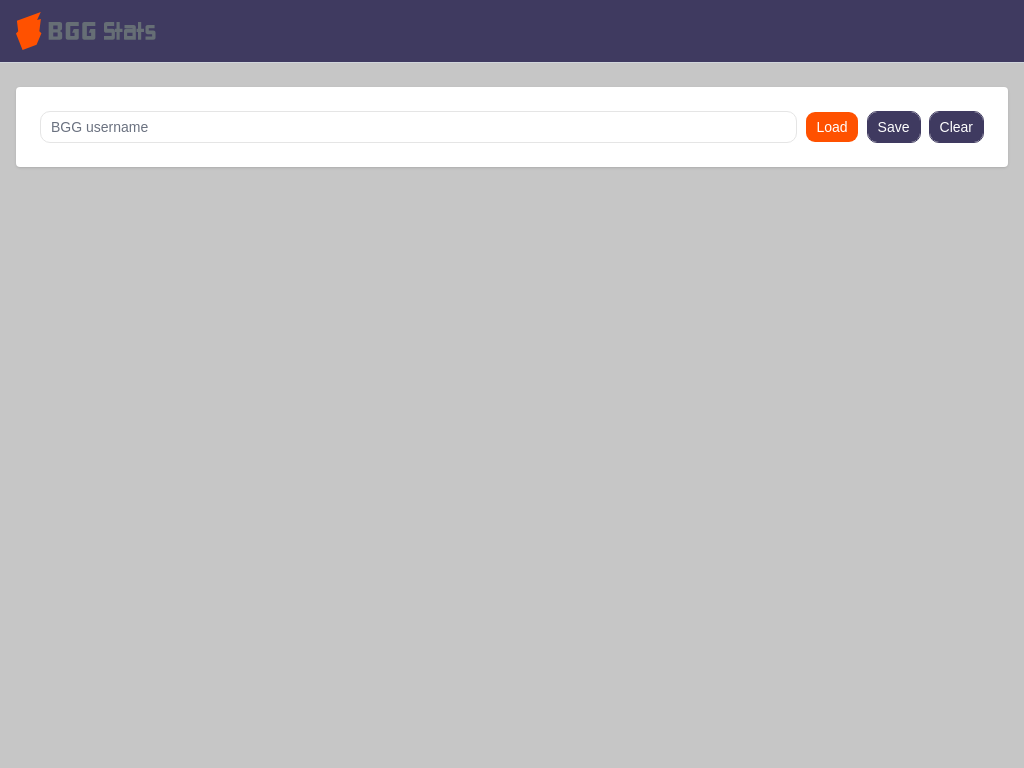
Scenario: CollectionBrowser › item type filter › Given games of both types are loaded, When the user selects 'Standalone', Then only standalone games are visible
The width and height of the screenshot is (1024, 768).
Type "testuser" into the field at [419, 127], box [40, 111, 798, 143]
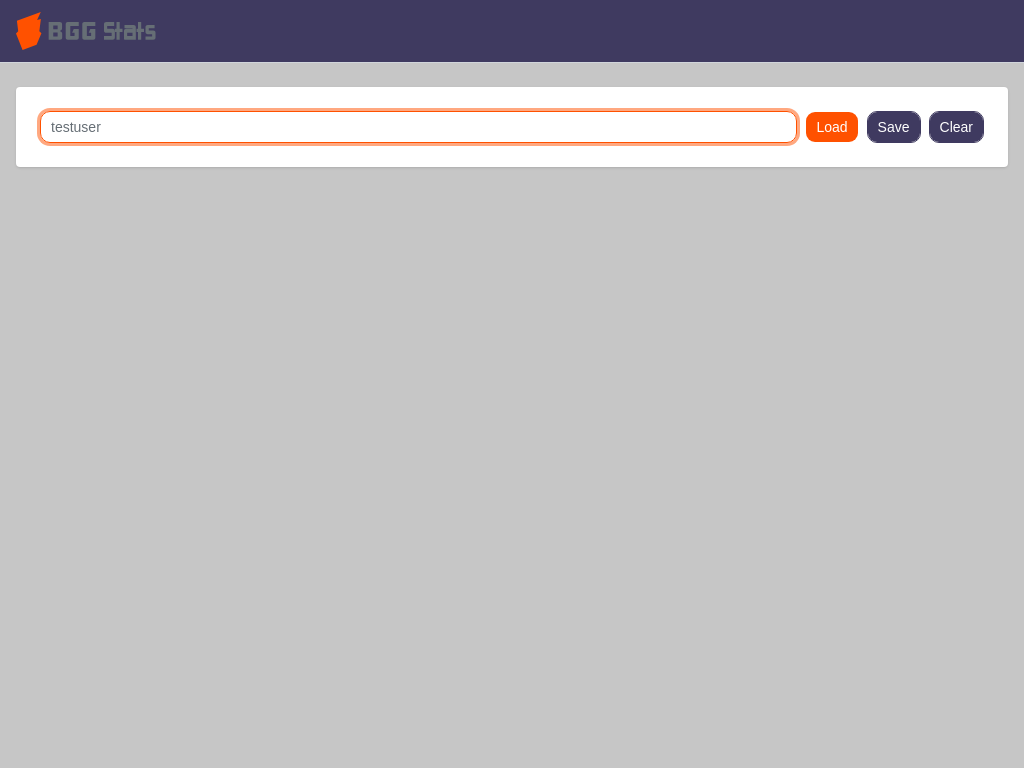
Click the button "Load" at [832, 127], box [806, 111, 859, 143]
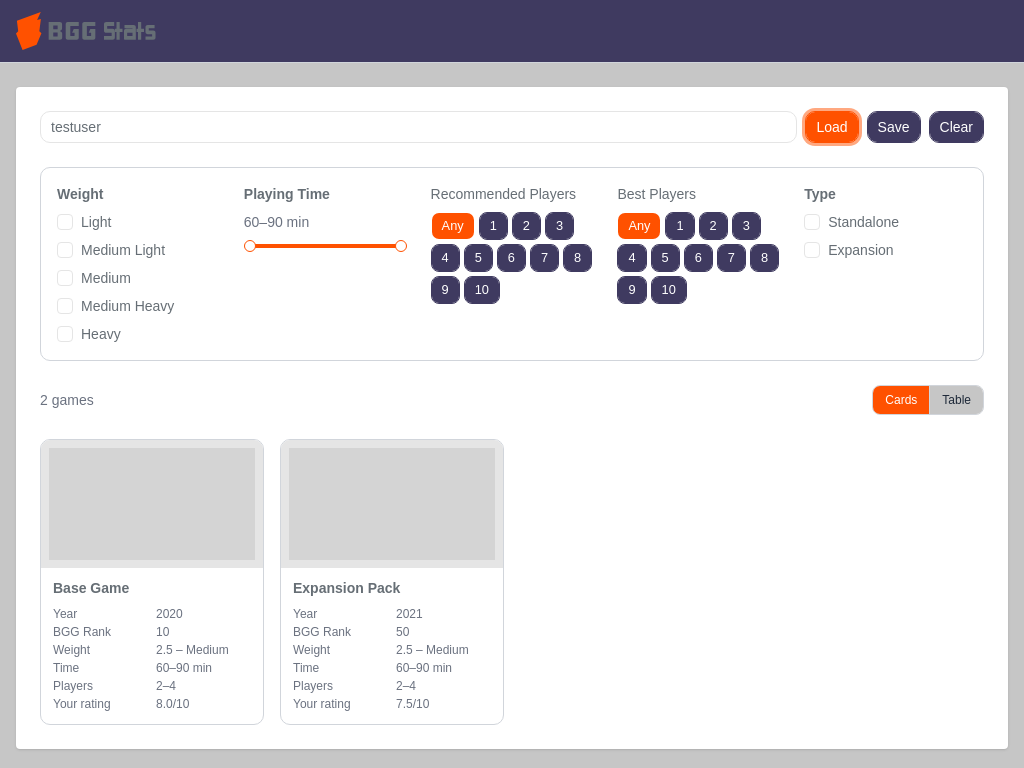
Expected: the link "Base Game" is shown, [53, 580, 129, 596]
Expected: the link "Expansion Pack" is shown, [293, 580, 400, 596]
Click the checkbox named "Standalone" next to "Standalone" at [812, 222], box [804, 214, 820, 230]
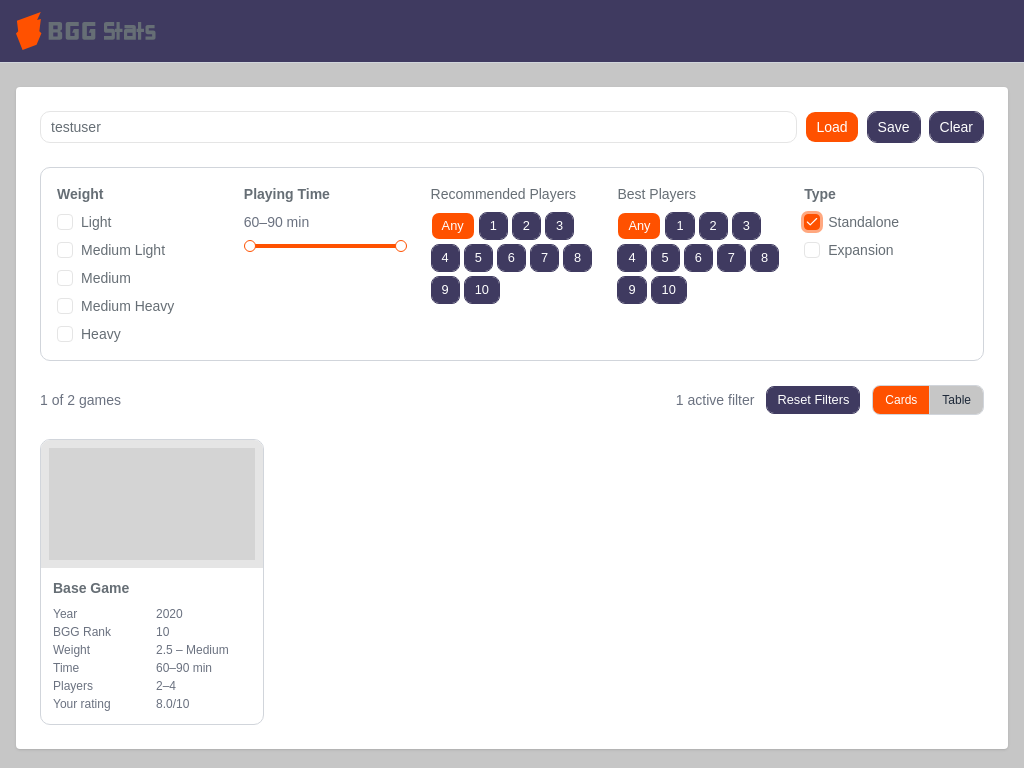
Expected: the link "Base Game" is shown, [53, 580, 129, 596]
Expected: the link "Expansion Pack" is gone
